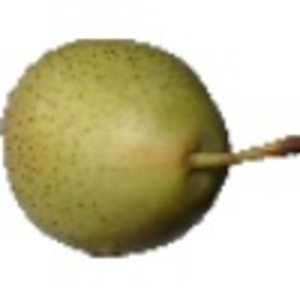pera: (1, 36, 300, 260)
